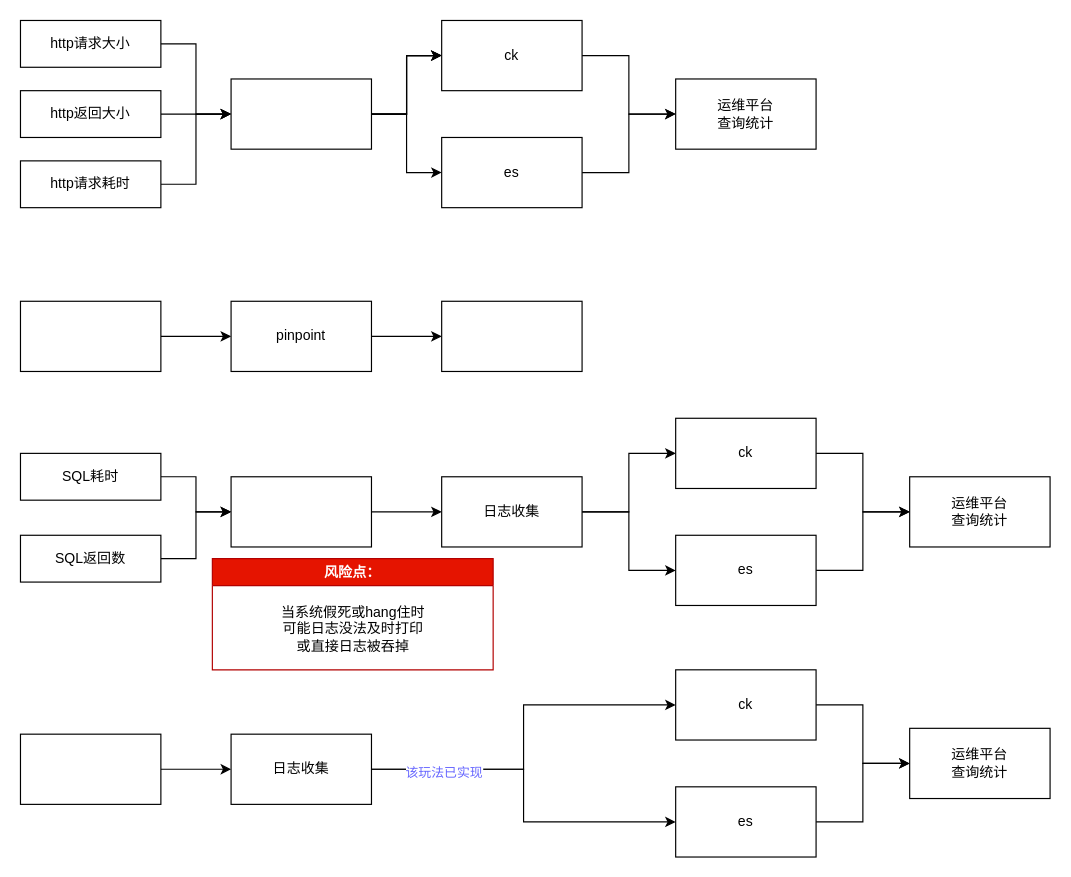
The diagram is 1071 pixels wide and 877 high, and some of its shapes have lost their labels. The shapes that lost their labels are listed below. From the top down, each one's centre as x and y in pixels, then its label:
[300,113]: apisix
[90,335]: jvm
[511,335]: 告警
[300,511]: java日志
[90,768]: SQL日志文件 慢日志
